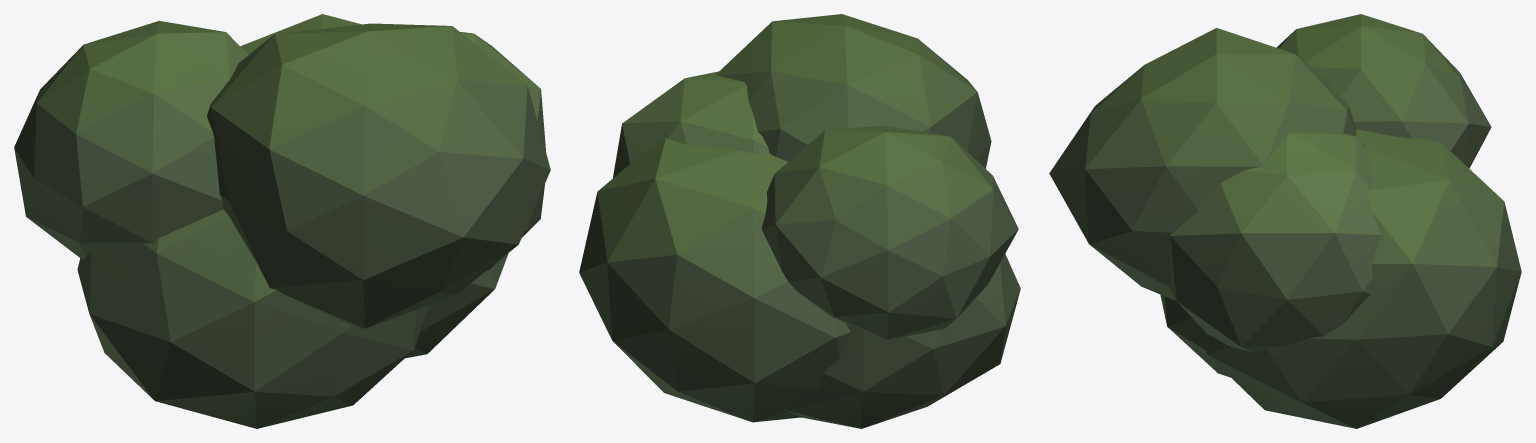
File: busch_mittel.glb
3 renders of one model, left to right at view 1: azimuth 30°, elevation 25°; view 2: azimuth 150°, elevation 25°; view 3: azimuth 270°, elevation 25°, orthographic. The views are drawn at different scales.
Parts seen in each view (by area): view 1: busch_mittel; view 2: busch_mittel; view 3: busch_mittel.
Part boxes in pixels (box(x1,y1,x2,y2)): busch_mittel: box(14, 14, 550, 428); busch_mittel: box(579, 14, 1020, 428); busch_mittel: box(1049, 14, 1521, 428).
Bounding box in the file's own units: 1.83 × 1.5 × 1.85.
